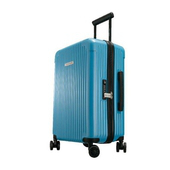suitcase: (48, 12, 129, 158)
